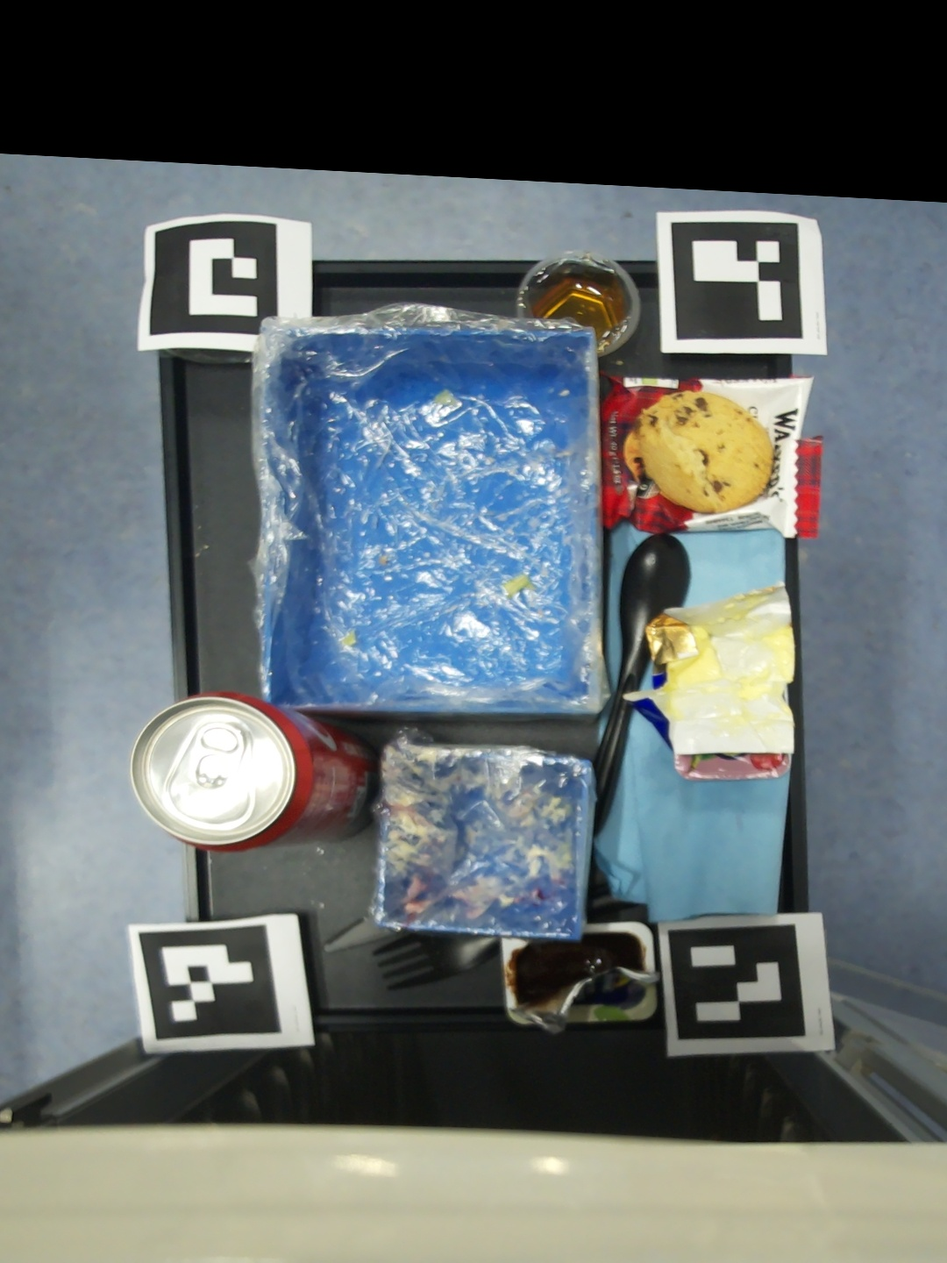butter: (622, 581, 795, 755)
cherry_jam: (674, 753, 790, 781)
cola_can: (131, 691, 379, 850)
cookie: (599, 370, 822, 538)
honey: (515, 249, 641, 357)
plum_jam: (501, 922, 660, 1034)
wrap_half_1: (504, 574, 537, 597), (435, 390, 457, 405), (341, 630, 356, 645), (378, 555, 387, 565)
